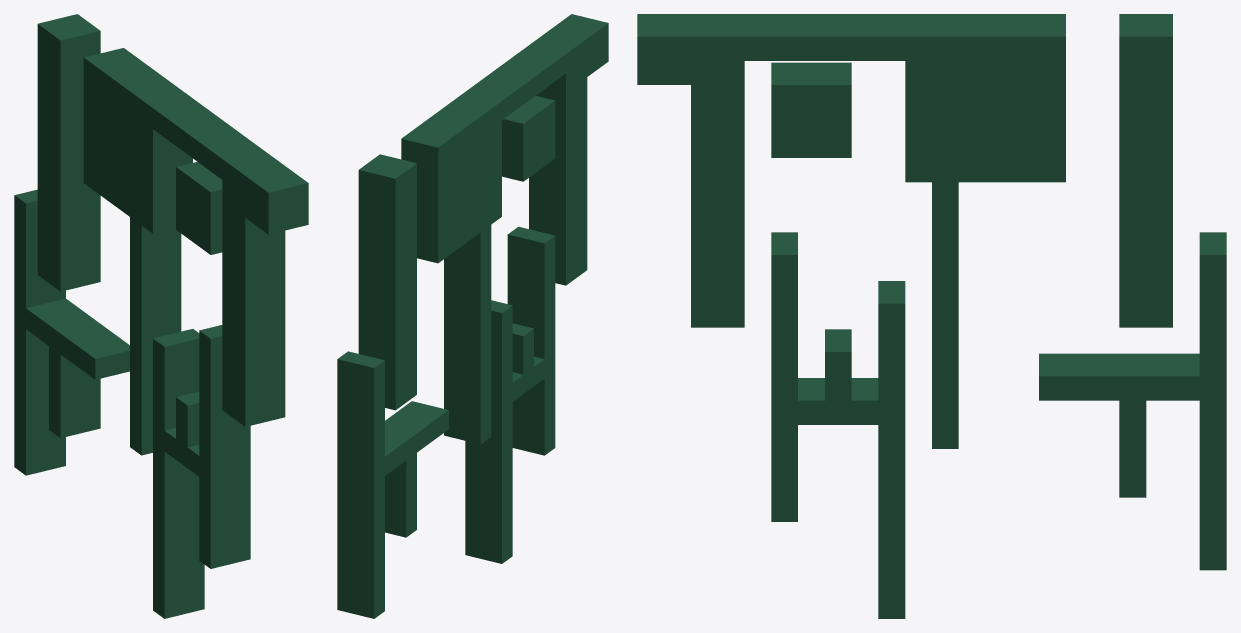
The model's file is grassFront2.obj.
3 views of the same model, side by side, from view 1: azimuth 30°, elevation 25°; view 2: azimuth 150°, elevation 25°; view 3: azimuth 270°, elevation 25° (orthographic). The views are drawn at different scales.
Size of the model in its own units: 0.2 by 2.4 by 2.2.
1 material, 1 textured.
